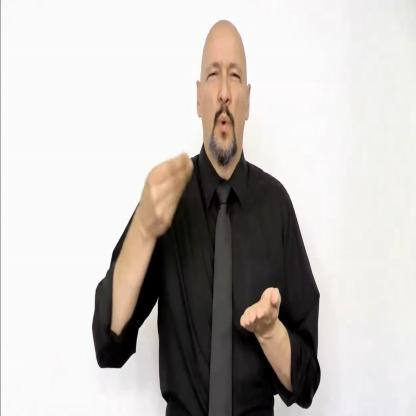Expensive: (140, 143, 292, 353)
